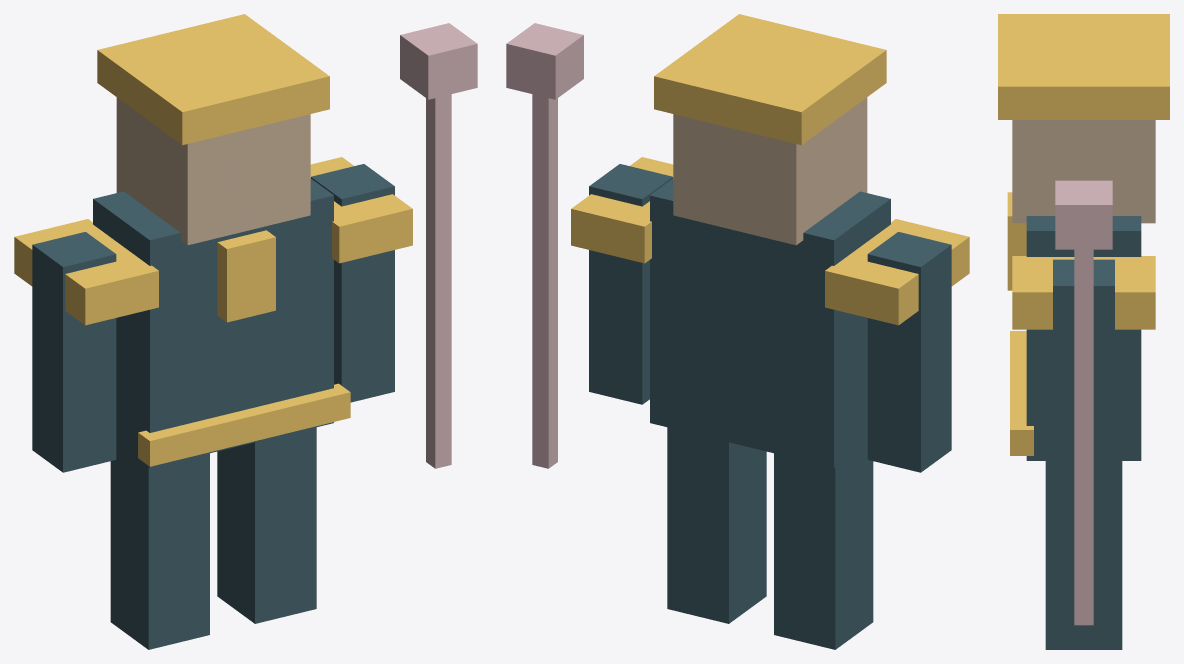
Rendered from 14_rook_signalborn_engineer_at.glb.
The picture shows the model from 3 angles, left to right: view 1: azimuth 30°, elevation 25°; view 2: azimuth 150°, elevation 25°; view 3: azimuth 270°, elevation 25°; orthographic projection.
Visible parts, largest first — view 1: Rook Signalborn, Engineer at; view 2: Rook Signalborn, Engineer at; view 3: Rook Signalborn, Engineer at.
Boxes of the visible parts, <box> form: Rook Signalborn, Engineer at: <box>14,14,477,649</box>; Rook Signalborn, Engineer at: <box>506,14,969,649</box>; Rook Signalborn, Engineer at: <box>998,14,1169,649</box>.
Size of the model in its own units: 1.11 by 1.41 by 0.393.
